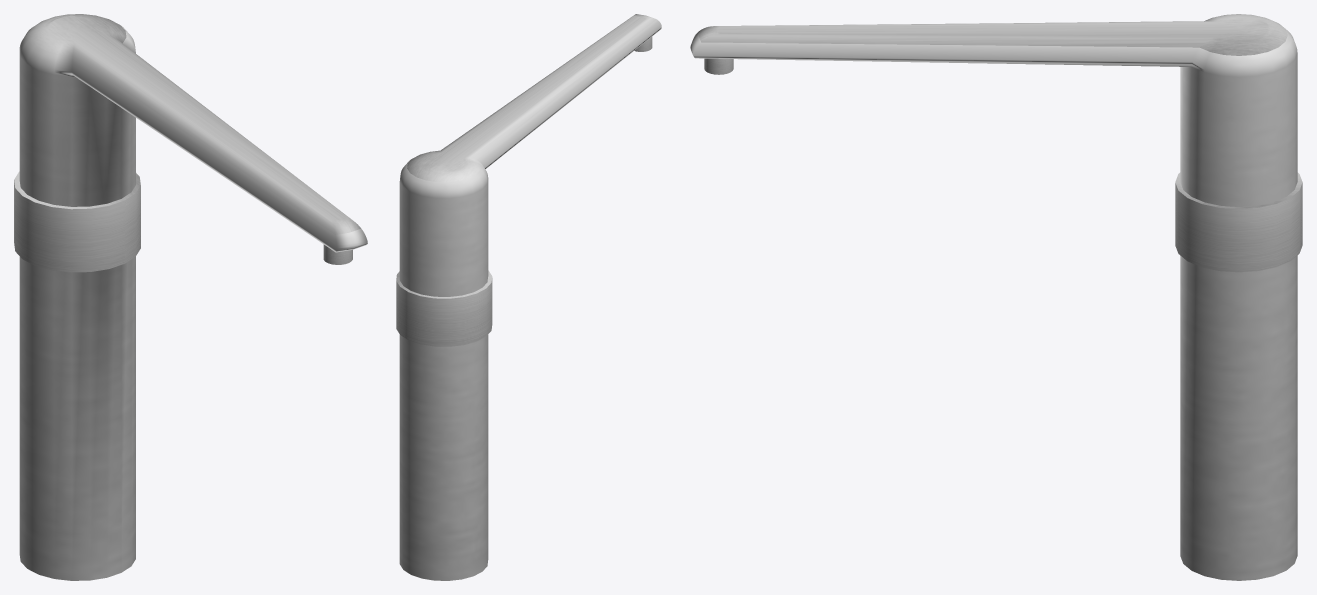
The model's file is Llave.obj.
The picture shows the model from 3 angles, left to right: view 1: azimuth 30°, elevation 25°; view 2: azimuth 150°, elevation 25°; view 3: azimuth 270°, elevation 25°; orthographic projection. The views are drawn at different scales.
Parts seen in each view (by area): view 1: polySurface9060; view 2: polySurface9060; view 3: polySurface9060.
Boxes of the visible parts, x1=… form: polySurface9060: x1=14, y1=14, x2=367, y2=580; polySurface9060: x1=396, y1=14, x2=661, y2=580; polySurface9060: x1=690, y1=14, x2=1302, y2=580.
Size of the model in its own units: 0.1304 by 0.5968 by 0.6266.
Materials: 1 (1 with a texture image).
